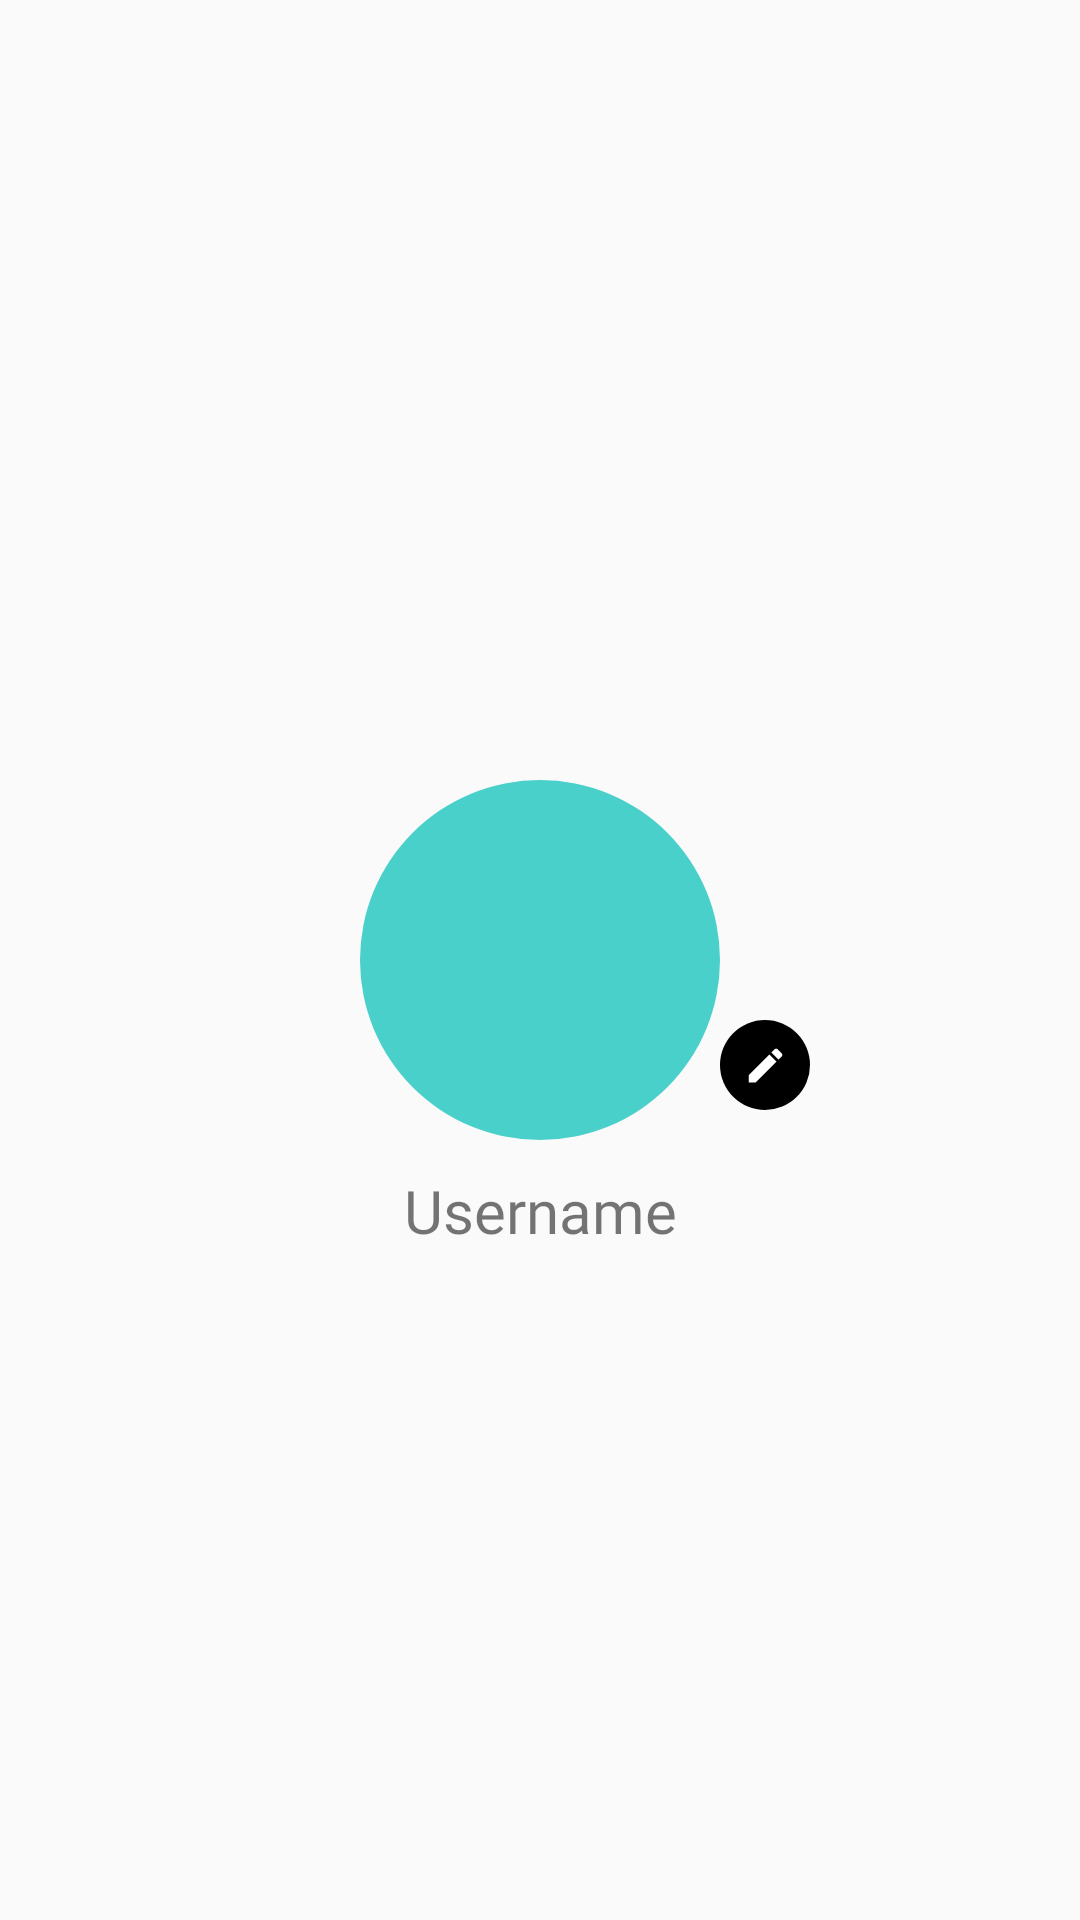

Screen size 1080w x 1920h. Icon name, then its center in pixels as (x,y):
edit profile picture: (765,1065)
